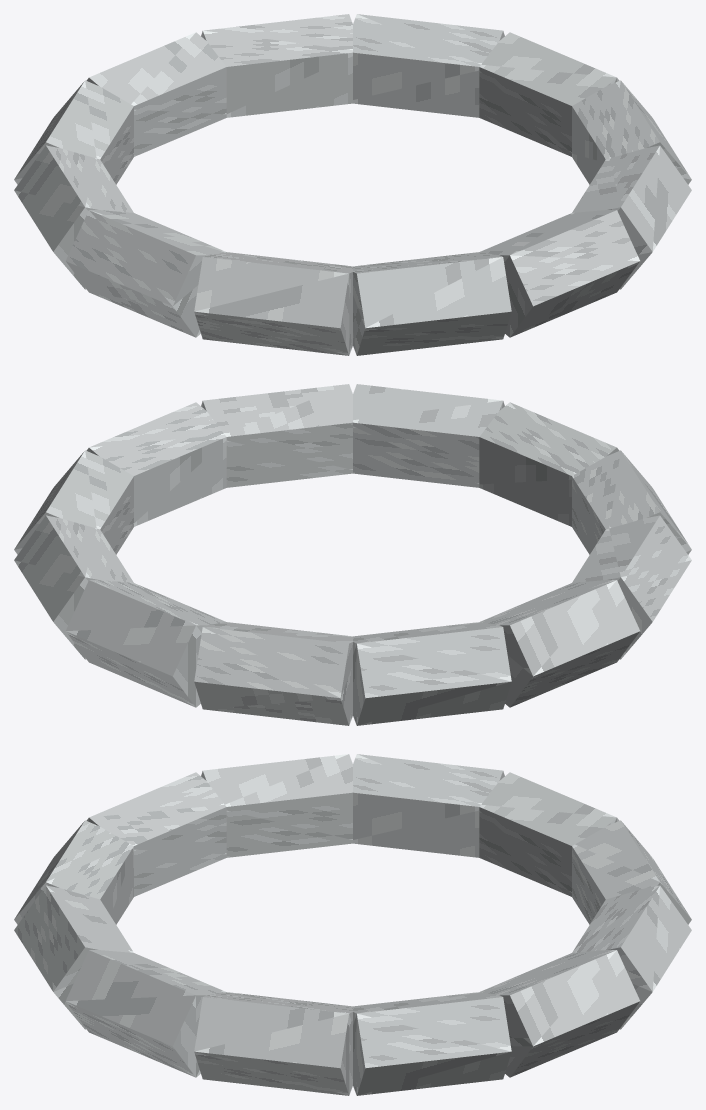
File: platinum_ring.glb
3 views of the same model, one above another, from view 1: azimuth 30°, elevation 25°; view 2: azimuth 150°, elevation 25°; view 3: azimuth 270°, elevation 25° (orthographic).
Parts seen in each view (by area): view 1: block_band3, block_band4, block_band9, block_band10, block_band2, block_band5, block_band8, block_band11, block_band1, block_band6, block_band0, block_band7; view 2: block_band7, block_band8, block_band1, block_band2, block_band6, block_band9, block_band0, block_band3, block_band5, block_band10, block_band4, block_band11; view 3: block_band0, block_band11, block_band5, block_band6, block_band1, block_band10, block_band4, block_band7, block_band2, block_band9, block_band3, block_band8.
Part boxes in pixels (x1=…): block_band3: x1=353, y1=252, x2=511, y2=355; block_band4: x1=194, y1=252, x2=352, y2=355; block_band9: x1=201, y1=14, x2=352, y2=117; block_band10: x1=353, y1=14, x2=504, y2=117; block_band2: x1=480, y1=210, x2=639, y2=337; block_band5: x1=66, y1=210, x2=225, y2=337; block_band8: x1=86, y1=32, x2=226, y2=156; block_band11: x1=479, y1=32, x2=619, y2=156; block_band1: x1=572, y1=145, x2=691, y2=289; block_band6: x1=14, y1=145, x2=133, y2=289; block_band0: x1=572, y1=80, x2=691, y2=184; block_band7: x1=14, y1=80, x2=133, y2=184; block_band7: x1=353, y1=622, x2=511, y2=725; block_band8: x1=194, y1=622, x2=352, y2=725; block_band1: x1=201, y1=384, x2=352, y2=487; block_band2: x1=353, y1=384, x2=504, y2=487; block_band6: x1=480, y1=580, x2=639, y2=707; block_band9: x1=66, y1=580, x2=225, y2=707; block_band0: x1=86, y1=402, x2=226, y2=526; block_band3: x1=479, y1=402, x2=619, y2=526; block_band5: x1=572, y1=515, x2=691, y2=659; block_band10: x1=14, y1=515, x2=133, y2=659; block_band4: x1=572, y1=450, x2=691, y2=554; block_band11: x1=14, y1=450, x2=133, y2=554; block_band0: x1=194, y1=992, x2=352, y2=1095; block_band11: x1=353, y1=992, x2=511, y2=1095; block_band5: x1=201, y1=754, x2=352, y2=857; block_band6: x1=353, y1=754, x2=504, y2=857; block_band1: x1=66, y1=950, x2=225, y2=1077; block_band10: x1=480, y1=950, x2=639, y2=1077; block_band4: x1=86, y1=772, x2=226, y2=896; block_band7: x1=479, y1=772, x2=619, y2=896; block_band2: x1=14, y1=885, x2=133, y2=1029; block_band9: x1=572, y1=885, x2=691, y2=1029; block_band3: x1=14, y1=820, x2=133, y2=924; block_band8: x1=572, y1=820, x2=691, y2=924.
Size of the model in its own units: 0.0178 by 0.00239 by 0.0178.
Materials: 1 (1 with a texture image).
